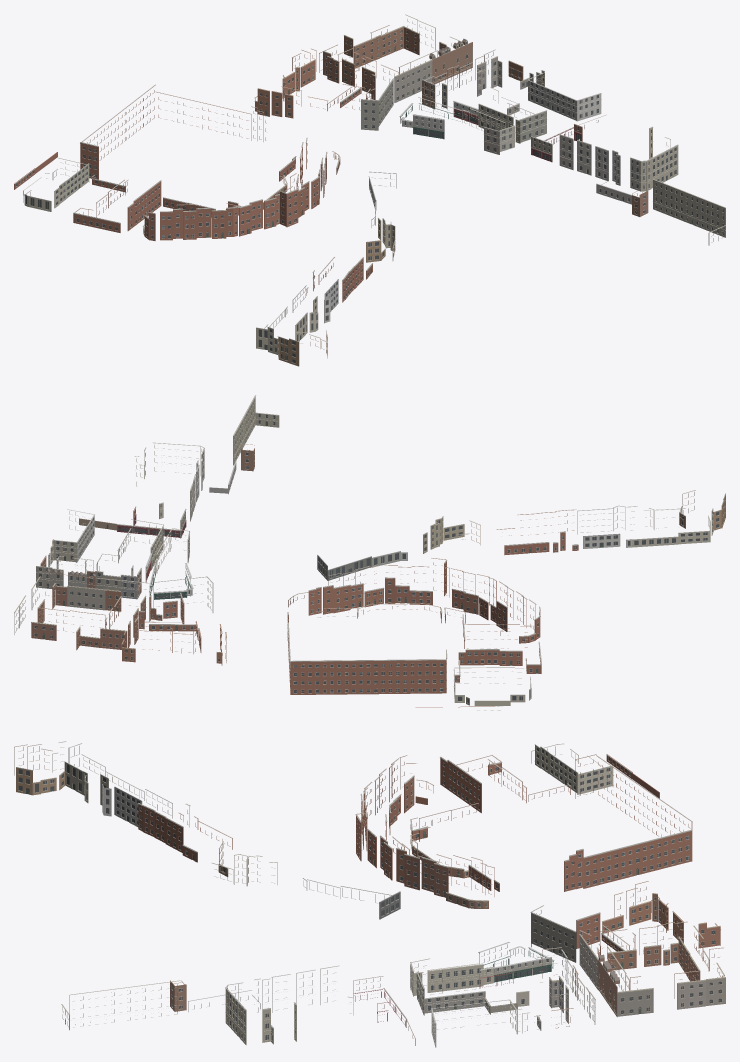
3 renders of one model, top to bottom at view 1: azimuth 30°, elevation 25°; view 2: azimuth 150°, elevation 25°; view 3: azimuth 270°, elevation 25°, orthographic. The views are drawn at different scales.
Visible parts, largest first — view 1: f:way/148215558, f:way/148215563, f:relation/1999159, f:way/27411570, f:way/761701363, f:way/148215562, f:way/201286459, f:way/136330947, f:way/148215568, f:way/148215550, f:way/27090727, f:way/136330945 (+5 smaller); view 2: f:relation/1999159, f:way/148215558, f:way/148215563, f:way/27090727, f:way/761701363, f:way/201286459, f:way/33181398, f:way/143469258, f:way/27411570, f:way/138164880, f:way/148215550, f:way/148215568 (+7 smaller); view 3: f:relation/1999159, f:way/148215563, f:way/148215558, f:way/148215550, f:way/148215562, f:way/148215568, f:way/27411570, f:way/136330938, f:way/143469258, f:way/136330947, f:way/136330945, f:way/138164880 (+7 smaller).
Part boxes in pixels (x1,y1,x2,y2): f:way/148215558: [142, 137, 327, 240]; f:way/148215563: [319, 20, 472, 102]; f:relation/1999159: [73, 84, 296, 232]; f:way/27411570: [559, 126, 678, 191]; f:way/761701363: [652, 179, 725, 245]; f:way/148215562: [254, 48, 328, 118]; f:way/201286459: [528, 70, 601, 121]; f:way/136330947: [478, 103, 546, 143]; f:way/148215568: [23, 158, 89, 211]; f:way/148215550: [342, 78, 393, 130]; f:way/27090727: [256, 296, 318, 354]; f:way/136330945: [399, 97, 462, 139]; f:relation/1999159: [287, 607, 541, 694]; f:way/148215558: [308, 558, 540, 643]; f:way/148215563: [19, 568, 151, 650]; f:way/27090727: [627, 506, 713, 547]; f:way/761701363: [233, 395, 279, 465]; f:way/201286459: [50, 509, 94, 564]; f:way/33181398: [317, 551, 400, 580]; f:way/143469258: [496, 509, 578, 555]; f:way/27411570: [134, 442, 204, 521]; f:way/138164880: [577, 505, 631, 548]; f:way/148215550: [151, 576, 213, 624]; f:way/148215568: [453, 667, 531, 705]; f:relation/1999159: [410, 754, 692, 891]; f:way/148215563: [579, 921, 723, 1017]; f:way/148215558: [355, 755, 494, 897]; f:way/148215550: [530, 905, 601, 962]; f:way/148215562: [602, 881, 720, 948]; f:way/148215568: [531, 743, 613, 794]; f:way/27411570: [225, 965, 353, 1045]; f:way/136330938: [410, 958, 493, 996]; f:way/143469258: [138, 803, 232, 862]; f:way/136330947: [416, 963, 485, 1015]; f:way/136330945: [478, 942, 554, 982]; f:way/138164880: [102, 784, 172, 826].
Bounding box in the file's own units: 249 × 17.68 × 252.
